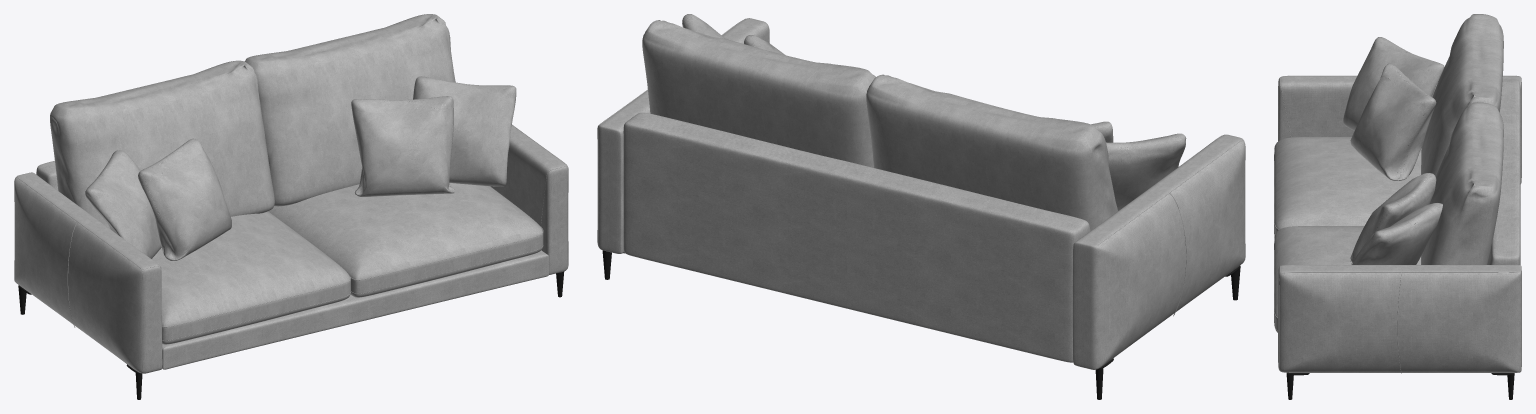
Rendered from 2arm2seats.glb.
3 views of the same model, side by side, from view 1: azimuth 30°, elevation 25°; view 2: azimuth 150°, elevation 25°; view 3: azimuth 270°, elevation 25° (orthographic). The views are drawn at different scales.
Parts seen in each view (by area): view 1: almofada costa 2 (×2), braço (×2), Almofada de assento#8, ALMOFADA DECO#1 (×2), Almofada de assento#7, ALMOFADA DECO#2 (×2), estrutura; view 2: Costa Kaori (×2), almofada costa 2 (×2), braço (×2), ALMOFADA DECO#2; view 3: braço (×2), almofada costa 2 (×2), Almofada de assento#7, ALMOFADA DECO#1 (×2), ALMOFADA DECO#2 (×2), Costa Kaori (×2), Almofada de assento#8, D=~ 0,00 m.
Part boxes in pixels (x1,y1,x2,y2): almofada costa 2 (×2): (50,14,455,228); braço (×2): (14,125,568,373); Almofada de assento#8: (268,183,543,297); ALMOFADA DECO#1 (×2): (138,96,454,260); Almofada de assento#7: (152,211,350,344); ALMOFADA DECO#2 (×2): (85,76,516,258); estrutura: (162,250,548,369); Costa Kaori (×2): (623,112,1090,362); almofada costa 2 (×2): (642,20,1117,230); braço (×2): (597,18,1245,369); ALMOFADA DECO#2: (1106,133,1186,210); braço (×2): (1278,76,1521,372); almofada costa 2 (×2): (1421,14,1503,264); Almofada de assento#7: (1274,137,1421,236); ALMOFADA DECO#1 (×2): (1350,63,1436,264); ALMOFADA DECO#2 (×2): (1343,37,1444,264); Costa Kaori (×2): (1487,79,1520,264); Almofada de assento#8: (1274,226,1420,332); D=~ 0,00 m: (1279,272,1518,372).
Bounding box in the file's own units: 2.03 × 0.9174 × 1.02.
2 materials, 1 textured.
